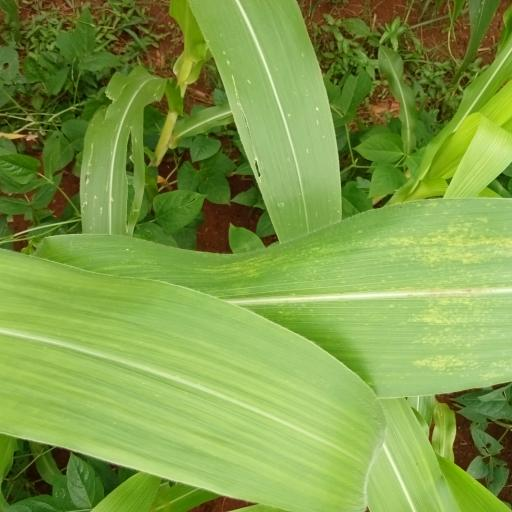Corn_Brown_Spots: (59, 197, 512, 427)
